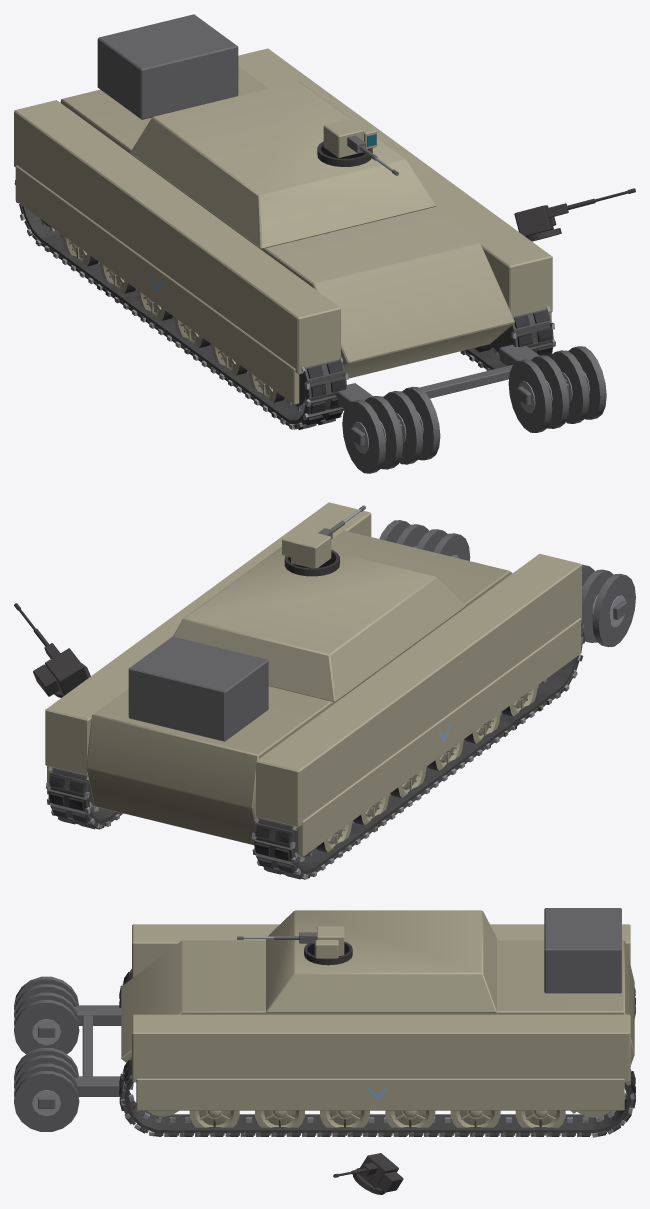
File: mineClearer__puma.glb
3 views of the same model, one above another, from view 1: azimuth 30°, elevation 25°; view 2: azimuth 150°, elevation 25°; view 3: azimuth 270°, elevation 25° (orthographic). The views are drawn at different scales.
Visible parts, largest first — view 1: Hull_Mesh, Track_L_Mesh, Wreck, Track_R_Mesh, Turret_Mesh; view 2: Hull_Mesh, Track_L_Mesh, Wreck, Track_R_Mesh, Turret_Mesh; view 3: Hull_Mesh, Track_R_Mesh, Wreck, Turret_Mesh, Wheel_R0_Mesh, Wheel_R5_Mesh, Wheel_R2_Mesh, Wheel_R1_Mesh, Wheel_R4_Mesh, Wheel_R3_Mesh, Gun_Mesh.
Part boxes in pixels (left/top/right/bottom): Hull_Mesh: left=14, top=14, right=606, bottom=473; Track_L_Mesh: left=14, top=179, right=348, bottom=429; Wreck: left=16, top=141, right=635, bottom=428; Track_R_Mesh: left=461, top=306, right=555, bottom=370; Turret_Mesh: left=323, top=119, right=376, bottom=157; Hull_Mesh: left=45, top=502, right=635, bottom=856; Track_L_Mesh: left=251, top=622, right=585, bottom=879; Wreck: left=14, top=550, right=585, bottom=878; Track_R_Mesh: left=46, top=766, right=123, bottom=829; Turret_Mesh: left=282, top=530, right=331, bottom=568; Hull_Mesh: left=14, top=908, right=634, bottom=1131; Track_R_Mesh: left=119, top=1058, right=635, bottom=1137; Wreck: left=119, top=941, right=635, bottom=1194; Turret_Mesh: left=314, top=926, right=344, bottom=958; Wheel_R0_Mesh: left=515, top=1110, right=565, bottom=1134; Wheel_R5_Mesh: left=189, top=1110, right=239, bottom=1134; Wheel_R2_Mesh: left=385, top=1110, right=435, bottom=1134; Wheel_R1_Mesh: left=450, top=1110, right=500, bottom=1134; Wheel_R4_Mesh: left=255, top=1110, right=304, bottom=1134; Wheel_R3_Mesh: left=320, top=1110, right=369, bottom=1134; Gun_Mesh: left=237, top=932, right=316, bottom=943.
Size of what is drawn, in the model's own units: 6.36 by 2.56 by 8.58.
